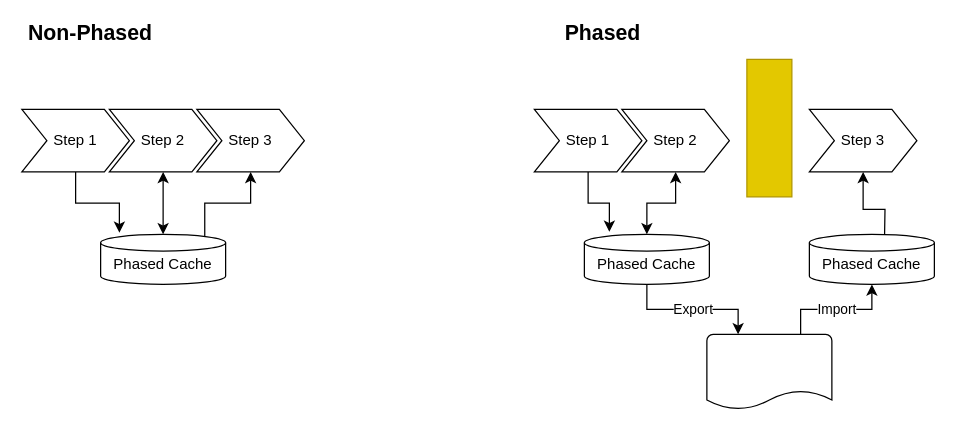
Some shapes in this 956 by 431 pixel diagram are drawn without their labels. The shapes that lost their labels are listed below. From the top down, each one's centre as x and y in pixels, then its label:
At point 769,127: "Major Change".
At point 769,371: "Phased Data".
